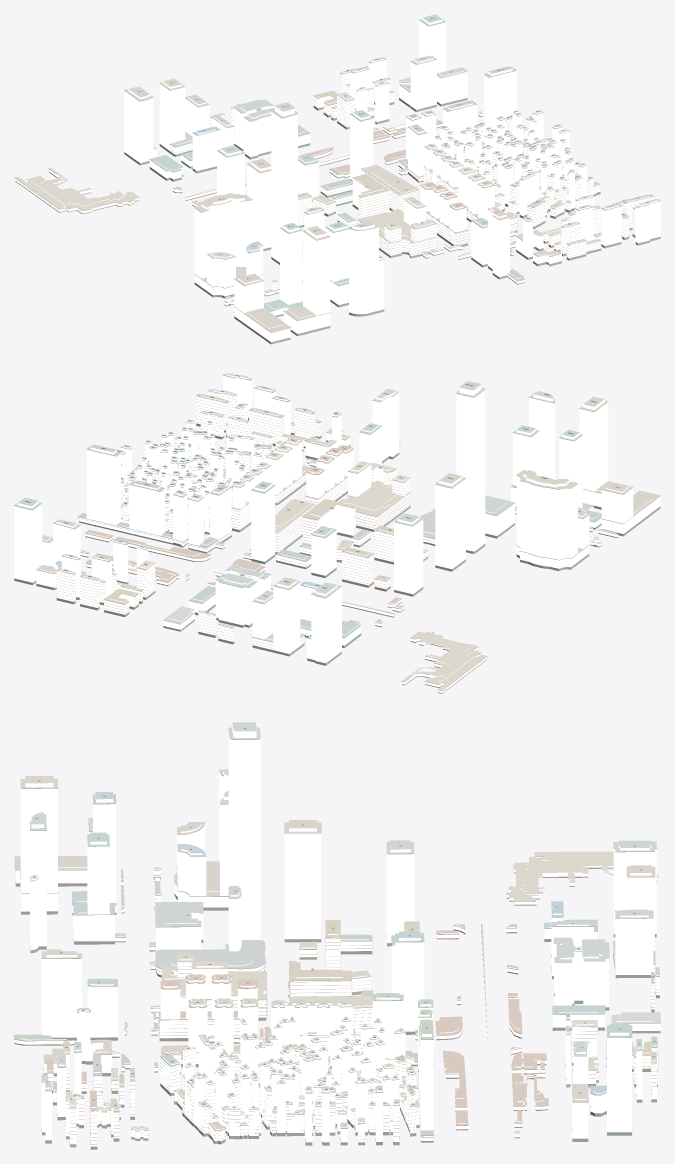
File: buildings-3_0-fine.glb
3 renders of one model, top to bottom at view 1: azimuth 30°, elevation 25°; view 2: azimuth 150°, elevation 25°; view 3: azimuth 270°, elevation 25°, orthographic. The views are drawn at different scales.
Visible parts, largest first — view 1: block_3_0_office, block_3_0_roof, block_3_0_residential, block_3_0_darkglass, block_3_0_concrete, block_3_0_steel; view 2: block_3_0_office, block_3_0_roof, block_3_0_residential, block_3_0_darkglass, block_3_0_concrete, block_3_0_steel; view 3: block_3_0_office, block_3_0_roof, block_3_0_residential, block_3_0_darkglass, block_3_0_concrete, block_3_0_steel.
Boxes of the visible parts, bbox=[...] form: block_3_0_office: bbox=[124, 18, 660, 342]; block_3_0_roof: bbox=[14, 14, 660, 339]; block_3_0_residential: bbox=[15, 66, 653, 314]; block_3_0_darkglass: bbox=[15, 98, 660, 344]; block_3_0_concrete: bbox=[15, 72, 653, 302]; block_3_0_steel: bbox=[124, 20, 660, 332]; block_3_0_office: bbox=[14, 374, 660, 663]; block_3_0_roof: bbox=[14, 373, 660, 692]; block_3_0_residential: bbox=[56, 390, 618, 692]; block_3_0_darkglass: bbox=[14, 417, 660, 693]; block_3_0_concrete: bbox=[57, 390, 617, 690]; block_3_0_steel: bbox=[14, 375, 659, 638]; block_3_0_office: bbox=[15, 724, 660, 1142]; block_3_0_roof: bbox=[14, 722, 660, 1141]; block_3_0_residential: bbox=[14, 857, 659, 1146]; block_3_0_darkglass: bbox=[14, 867, 660, 1149]; block_3_0_concrete: bbox=[14, 856, 659, 1144]; block_3_0_steel: bbox=[14, 737, 660, 1102].
Size of the model in its own units: 694 by 235 by 646.
